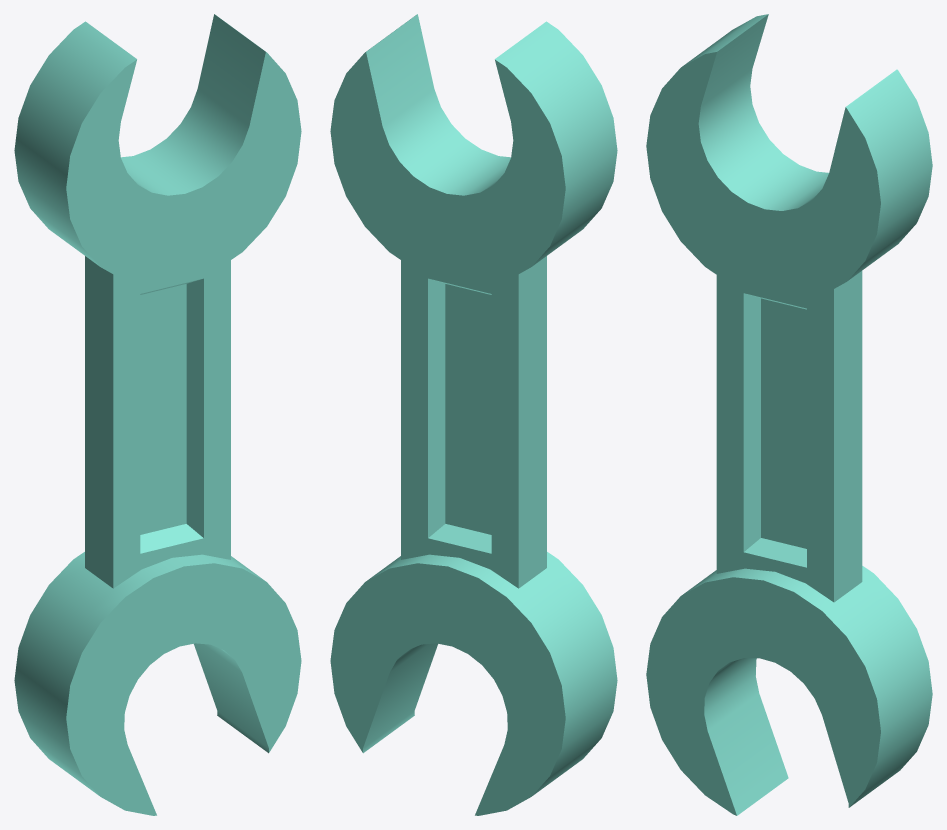
Rendered from Weapon_1.fbx.
3 renders of one model, left to right at view 1: azimuth 30°, elevation 25°; view 2: azimuth 150°, elevation 25°; view 3: azimuth 330°, elevation 25°, orthographic.
Visible parts, largest first — view 1: Cylinder; view 2: Cylinder; view 3: Cylinder.
Part boxes in pixels (bbox=[...]): Cylinder: bbox=[14, 14, 301, 815]; Cylinder: bbox=[330, 14, 617, 815]; Cylinder: bbox=[646, 14, 932, 815].
Bounding box in the file's own units: 39.26 × 121 × 14.95.
